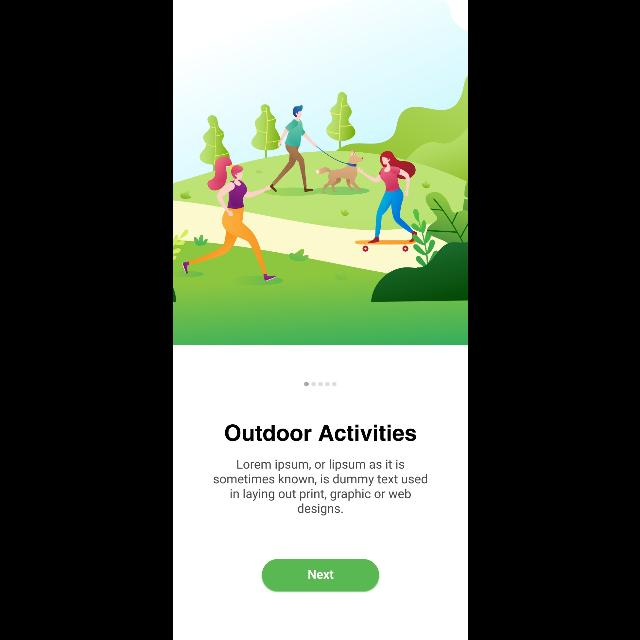image: (172, 1, 468, 345)
pageindicator: (304, 381, 336, 387)
text: (213, 458, 427, 516), (224, 424, 416, 442)
textbutton: (262, 560, 378, 592)
